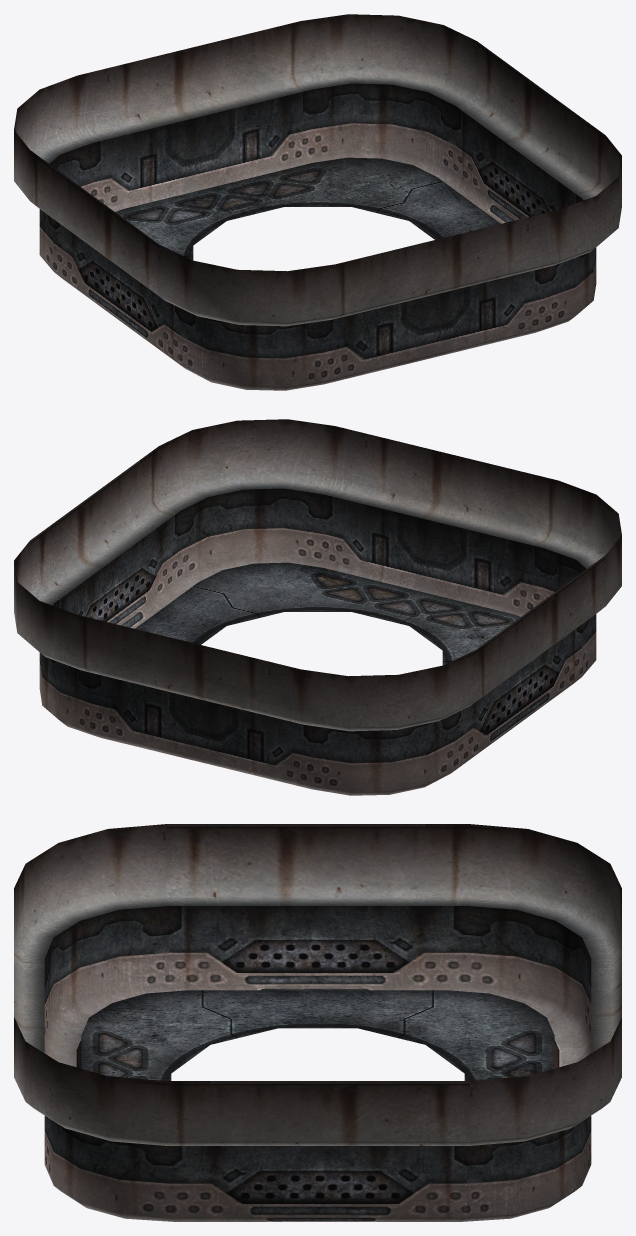
File: living_area_extruded_panel_fan_white.dae
The picture shows the model from 3 angles, top to bottom: view 1: azimuth 30°, elevation 25°; view 2: azimuth 150°, elevation 25°; view 3: azimuth 270°, elevation 25°; orthographic projection. The views are drawn at different scales.
Visible parts, largest first — view 1: polySurface26; view 2: polySurface26; view 3: polySurface26.
Part boxes in pixels (bbox=[...]): polySurface26: bbox=[14, 14, 621, 390]; polySurface26: bbox=[14, 419, 621, 795]; polySurface26: bbox=[14, 824, 621, 1221].
Size of the model in its own units: 4 by 1.15 by 4.
